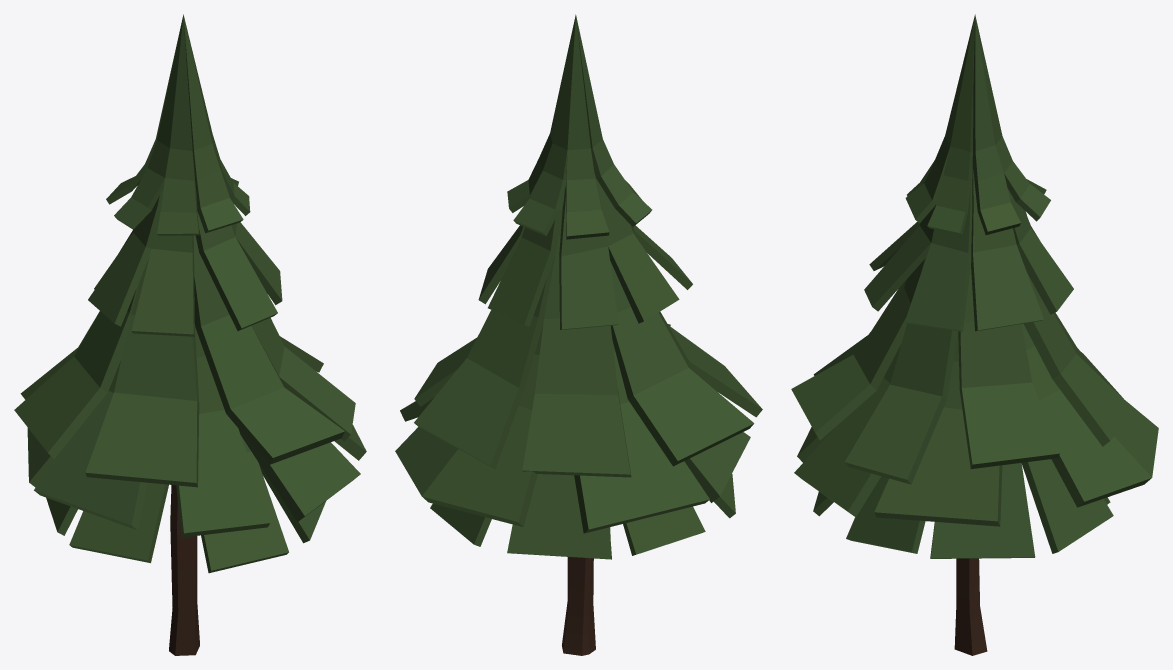
Rendered from PineTree_1.fbx.
3 views of the same model, side by side, from view 1: azimuth 30°, elevation 25°; view 2: azimuth 150°, elevation 25°; view 3: azimuth 270°, elevation 25° (orthographic).
Visible parts, largest first — view 1: polySurface7; view 2: polySurface7; view 3: polySurface7.
Boxes of the visible parts, x1,y1,x2,y2 form: polySurface7: (14,14,366,655); polySurface7: (395,14,762,655); polySurface7: (791,14,1158,655).
Bounding box in the file's own units: 0.4791 × 0.9043 × 0.4749.
